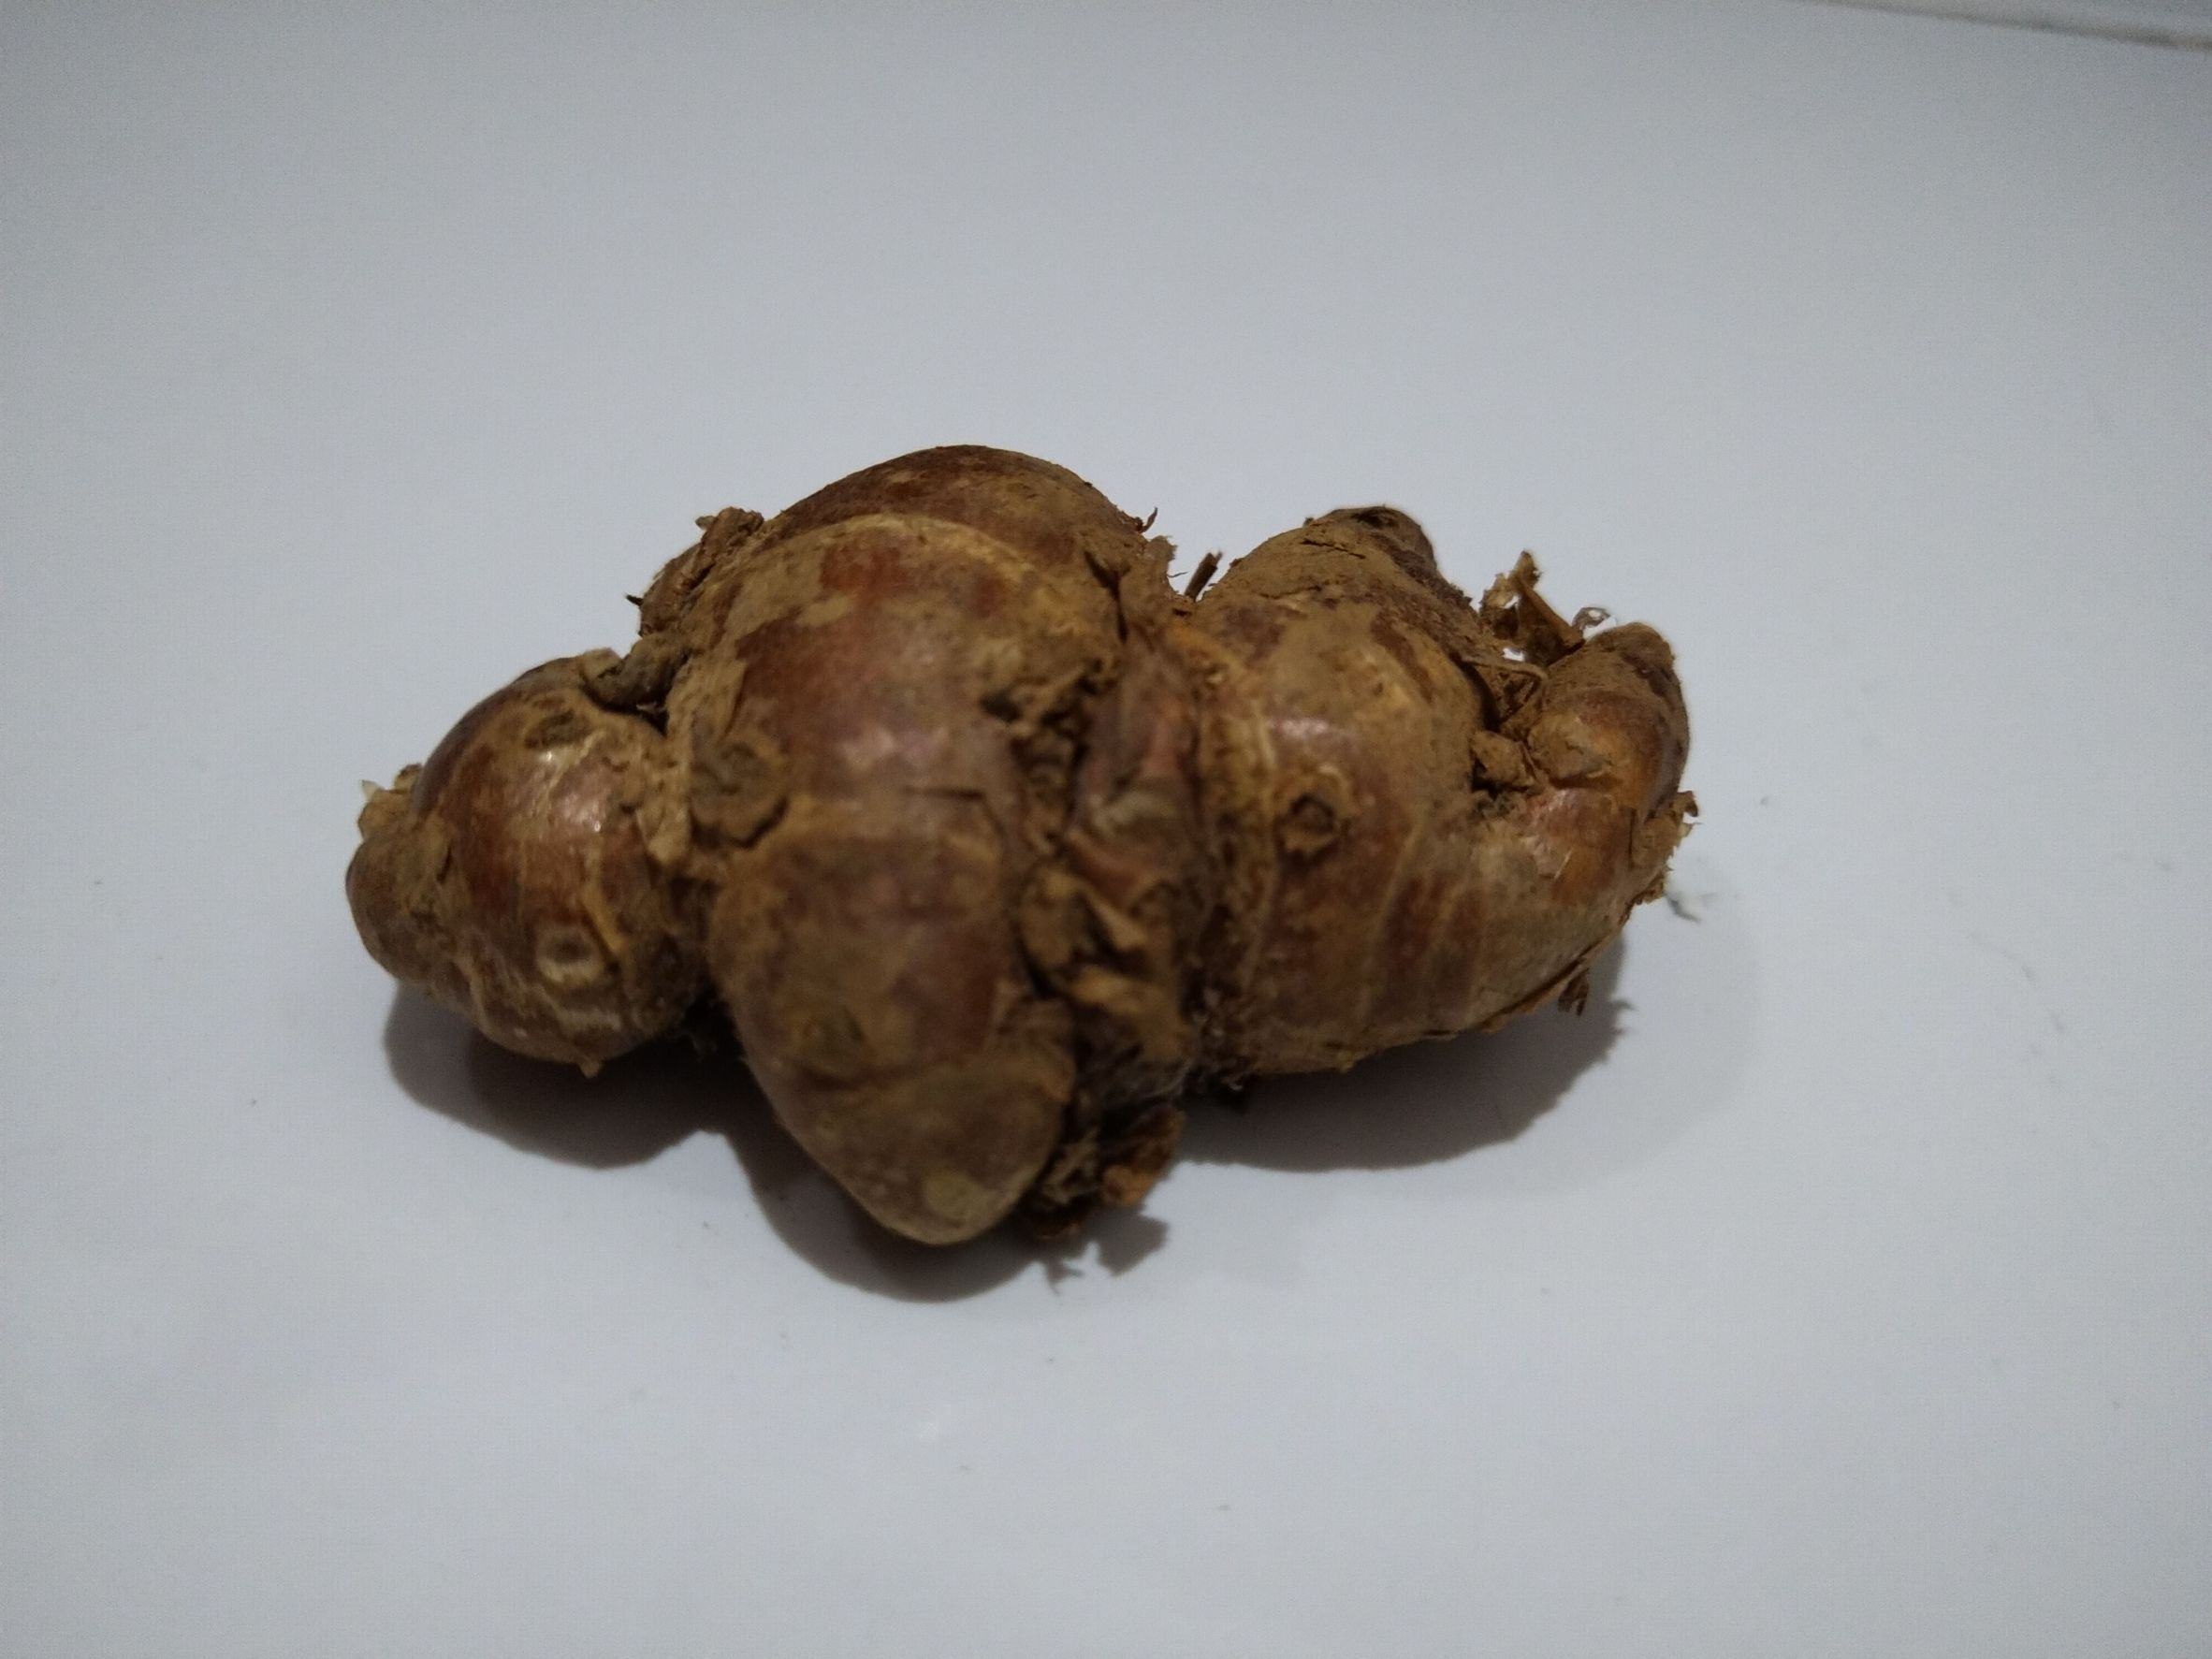Kencur: (366, 464, 1693, 1262)
